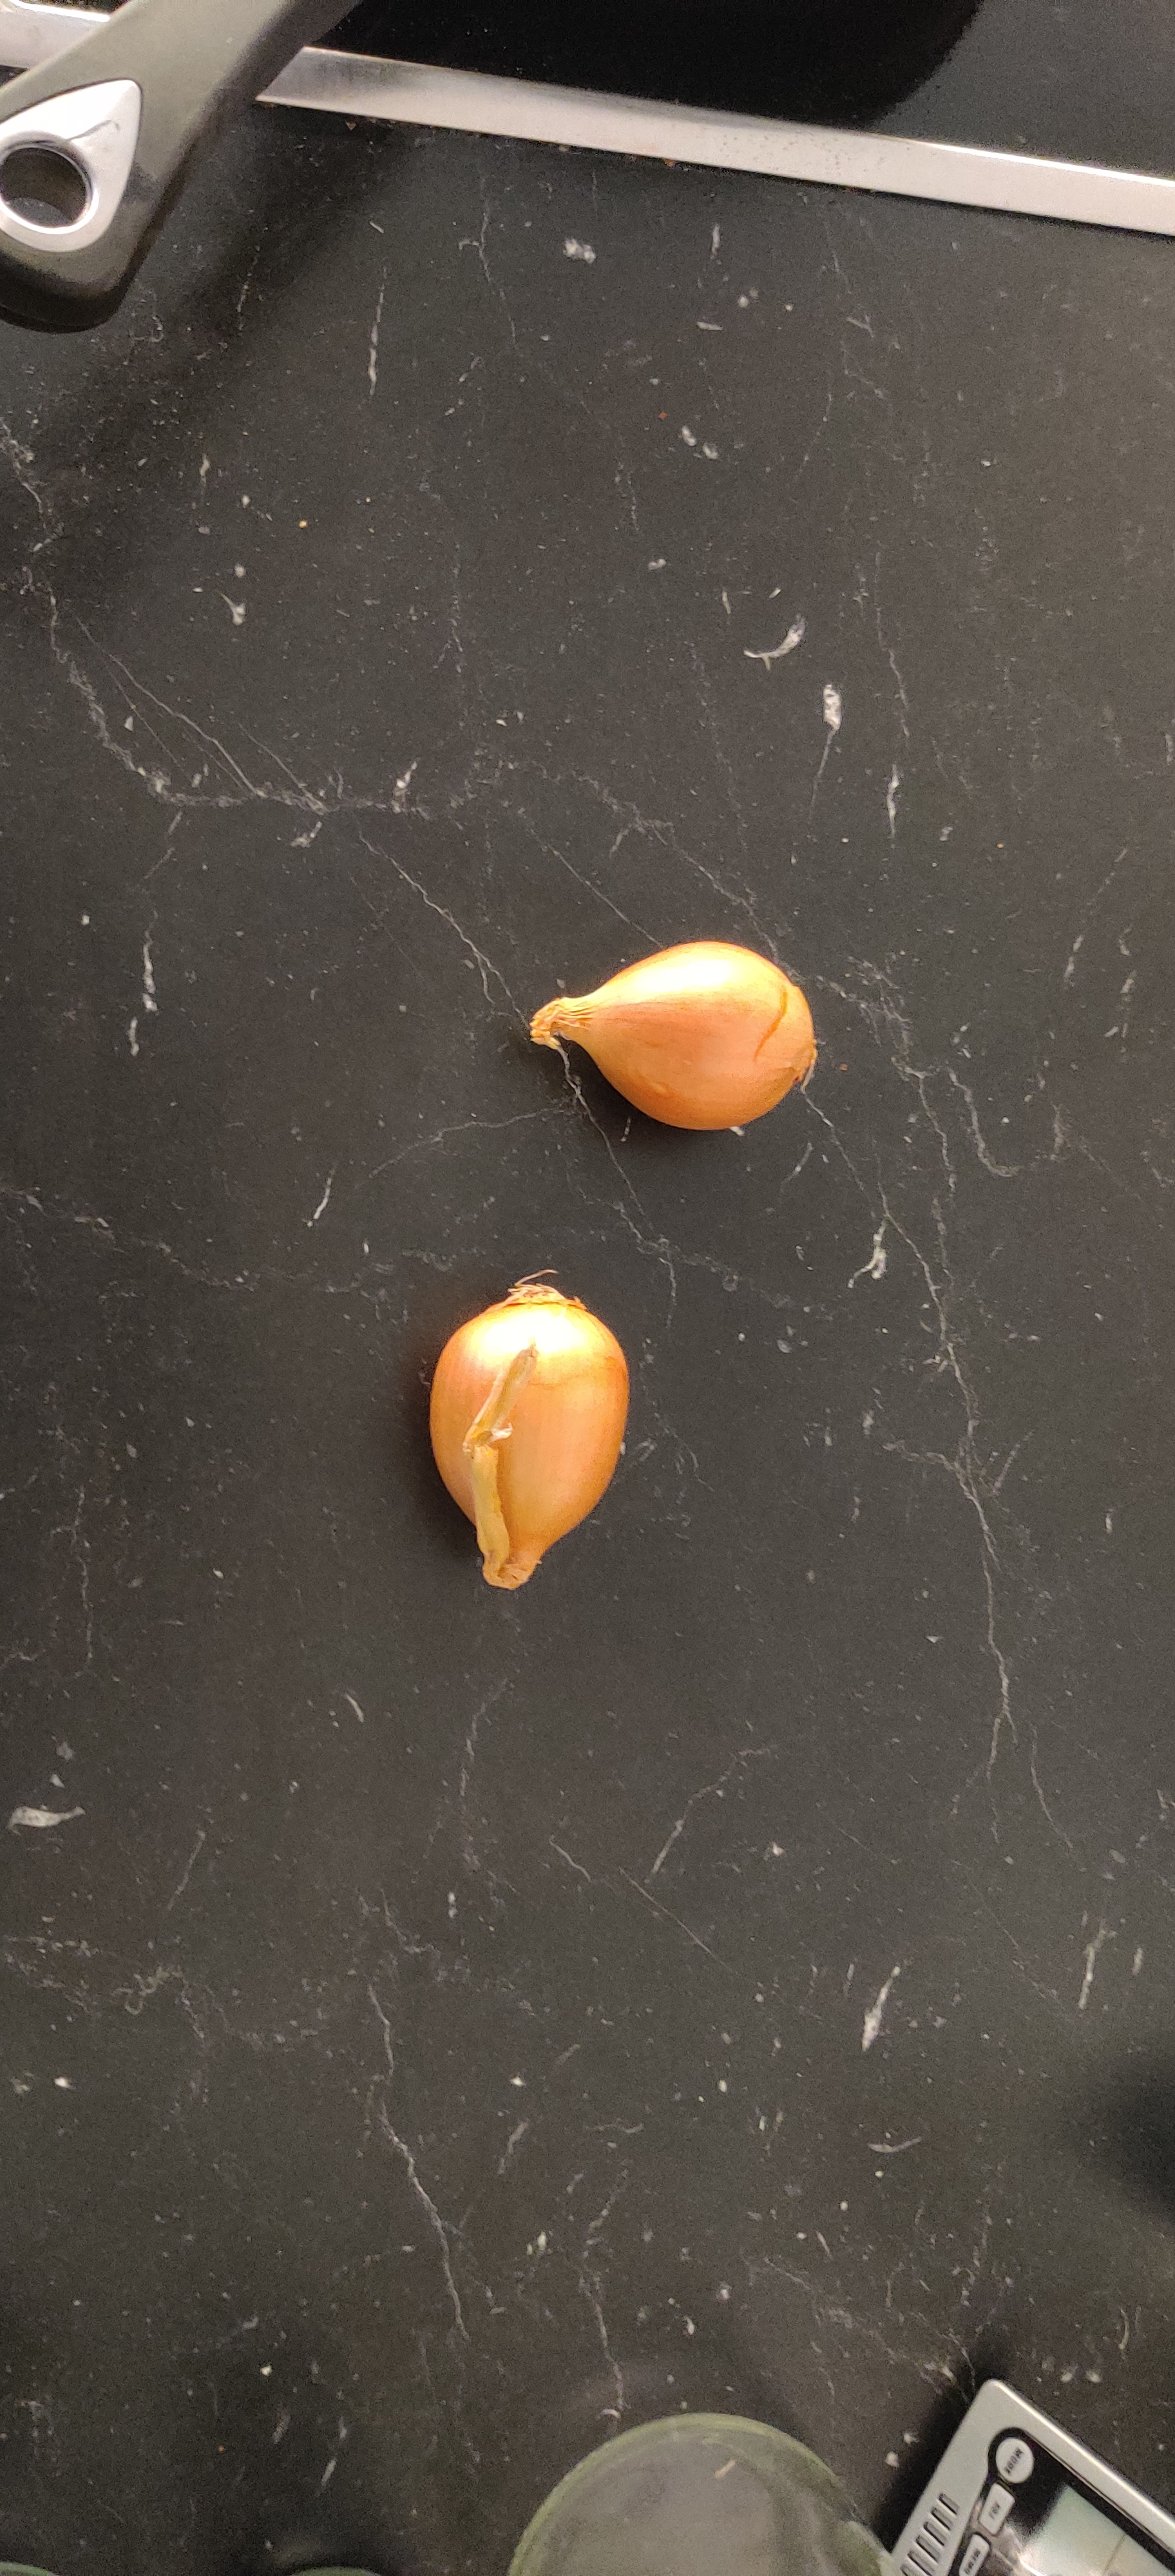Zwiebel: (432, 1281, 629, 1585), (529, 941, 815, 1134)
